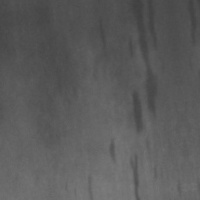inclusion: (132, 4, 169, 128), (121, 84, 149, 140), (89, 14, 114, 55), (123, 149, 145, 193), (104, 135, 124, 166), (80, 169, 98, 198)
